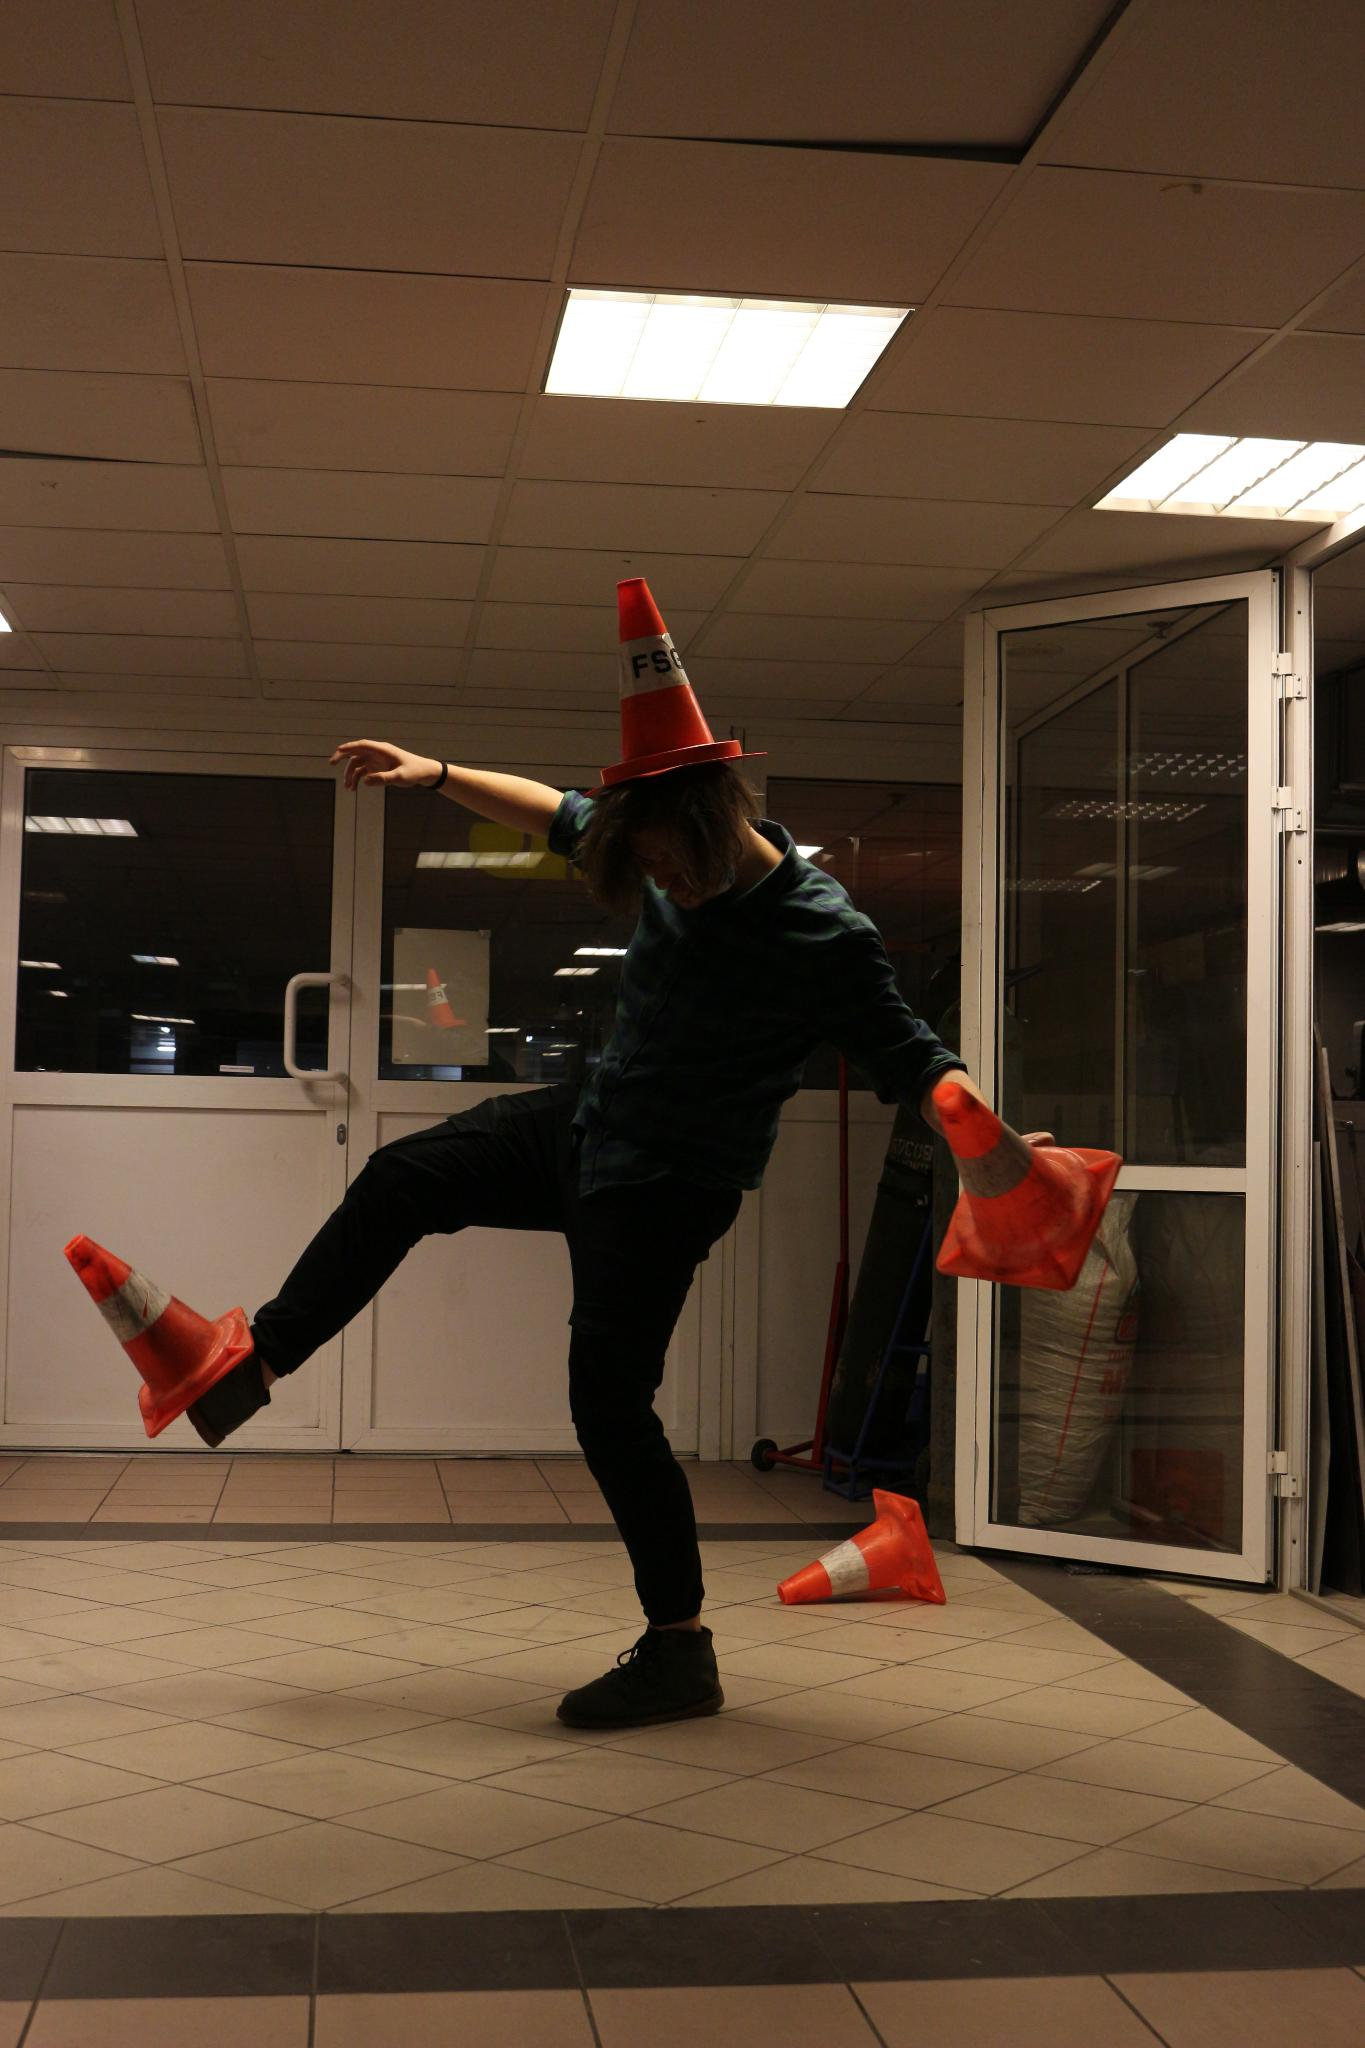Orange_Cone: (929, 1075, 1108, 1296), (50, 1229, 239, 1422), (605, 557, 734, 783), (763, 1483, 949, 1625)
